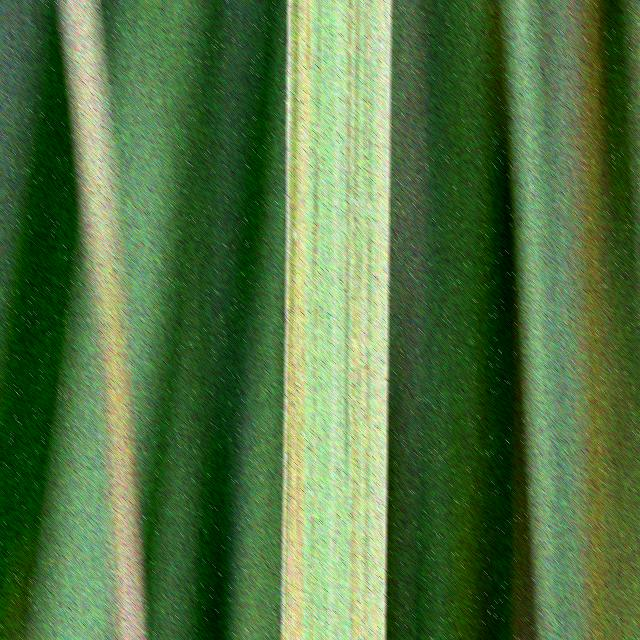BLS: (281, 2, 310, 640), (371, 2, 383, 640), (309, 3, 321, 640), (349, 3, 361, 640), (382, 2, 391, 640), (362, 3, 370, 640), (335, 65, 342, 640), (343, 3, 351, 479)
